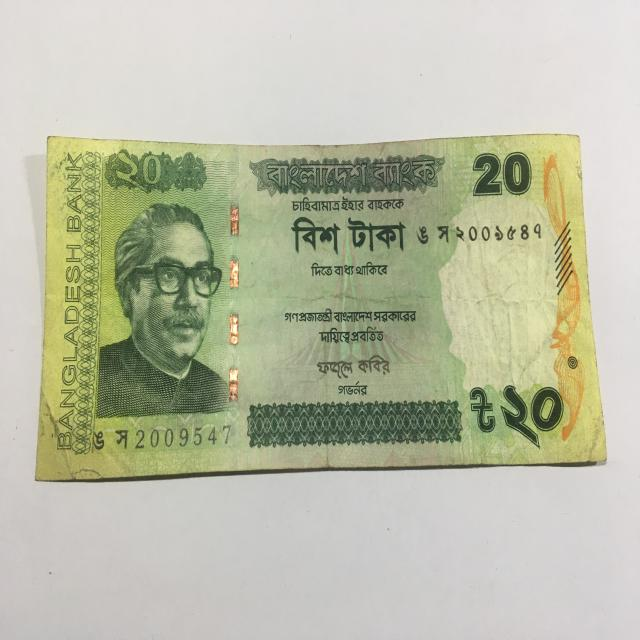Taka: (30, 126, 611, 494)
